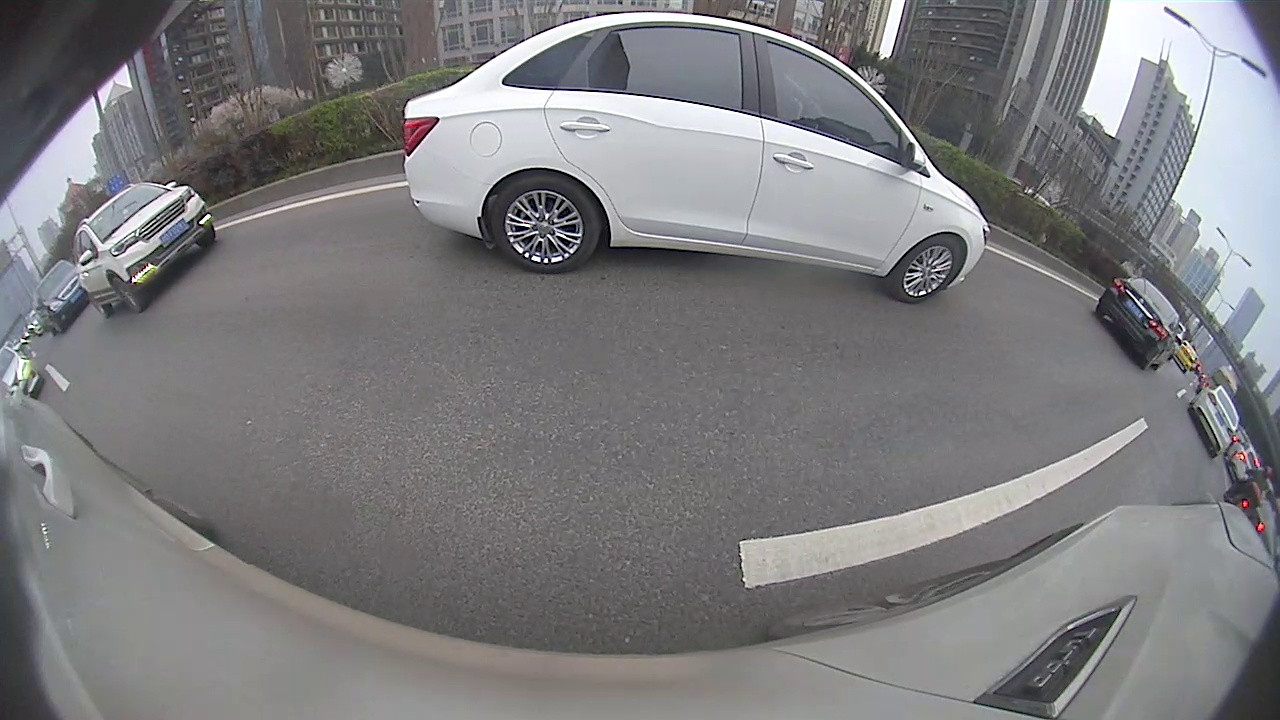car: (401, 11, 992, 306), (73, 181, 215, 319), (1096, 275, 1181, 375), (1188, 386, 1242, 460)
front: (895, 239, 969, 302), (108, 275, 141, 315)
rear: (487, 179, 602, 277)
